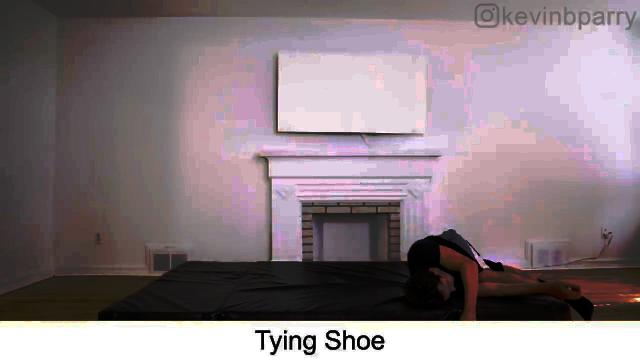jatuh: (396, 223, 602, 327)
